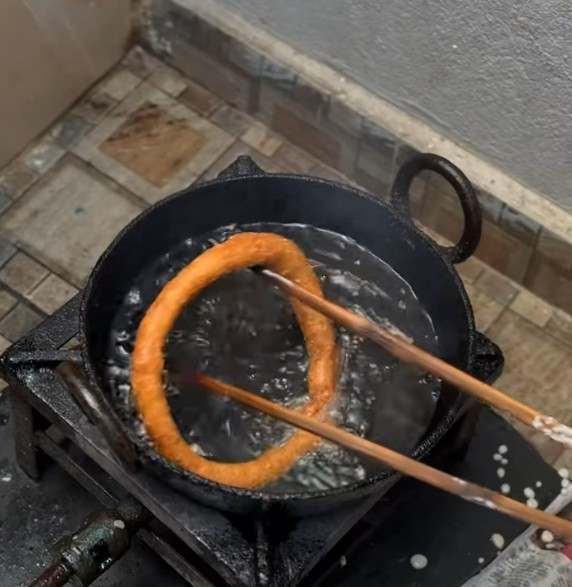sel_roti: (136, 233, 339, 489)
